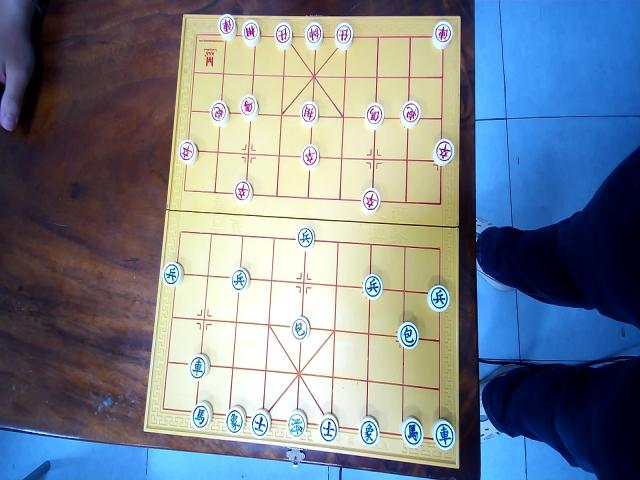piece: (432, 419, 455, 450), (401, 416, 423, 448), (359, 416, 379, 447), (191, 401, 212, 429), (225, 406, 245, 435), (428, 285, 449, 312), (397, 322, 418, 349), (432, 21, 452, 49), (319, 414, 338, 443), (251, 409, 270, 438), (401, 100, 420, 129), (433, 139, 454, 165), (189, 353, 209, 380), (287, 410, 306, 438), (365, 102, 384, 130), (162, 262, 183, 287), (178, 139, 198, 165), (274, 22, 293, 49), (210, 100, 229, 127), (335, 22, 353, 50), (363, 274, 383, 299), (361, 188, 380, 214), (242, 20, 260, 47), (218, 14, 236, 41), (240, 94, 258, 121), (301, 144, 319, 171), (305, 22, 323, 49), (233, 180, 252, 205), (300, 101, 318, 127), (230, 268, 250, 291), (291, 316, 309, 341), (297, 226, 314, 250)
